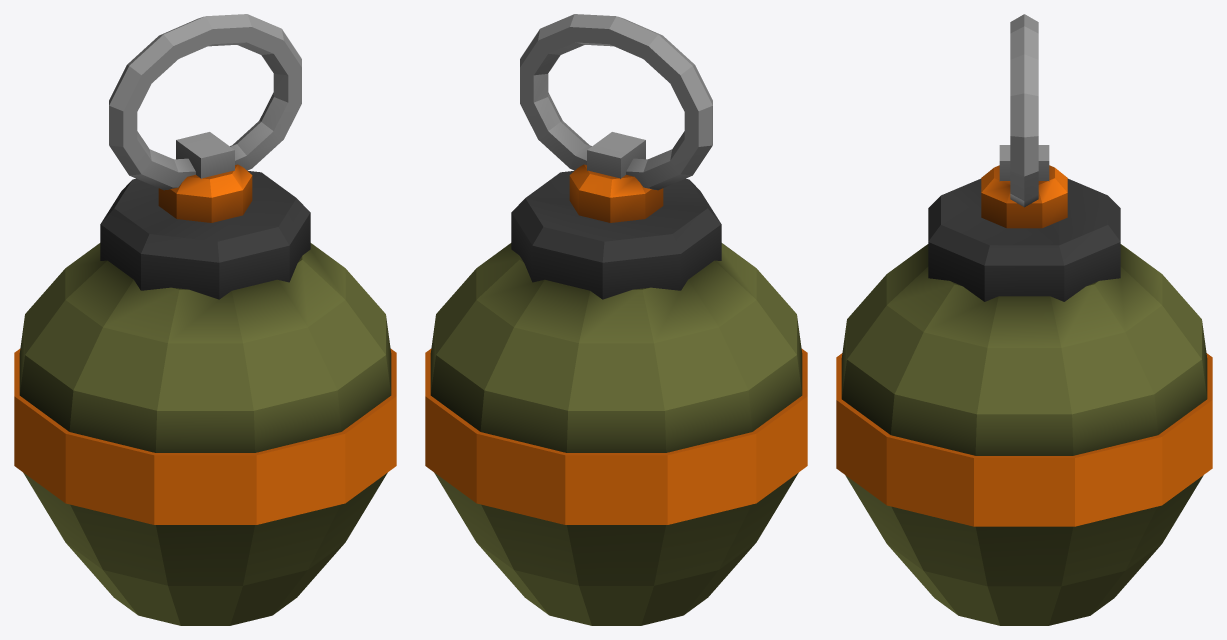
The model's file is grenade.glb.
3 views of the same model, side by side, from view 1: azimuth 30°, elevation 25°; view 2: azimuth 150°, elevation 25°; view 3: azimuth 270°, elevation 25° (orthographic).
Parts seen in each view (by area): view 1: grenade; view 2: grenade; view 3: grenade.
Boxes of the visible parts, x1,y1,x2,y2 form: grenade: (14,14,396,625); grenade: (425,14,807,625); grenade: (836,14,1212,625).
Size of the model in its own units: 0.0892 by 0.1469 by 0.0892.
Materials: 1 (1 with a texture image).
